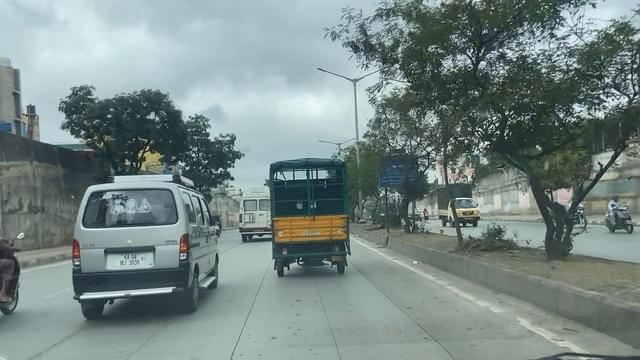HMV: (254, 158, 348, 275), (232, 188, 271, 240)
LMV: (63, 175, 230, 321)
